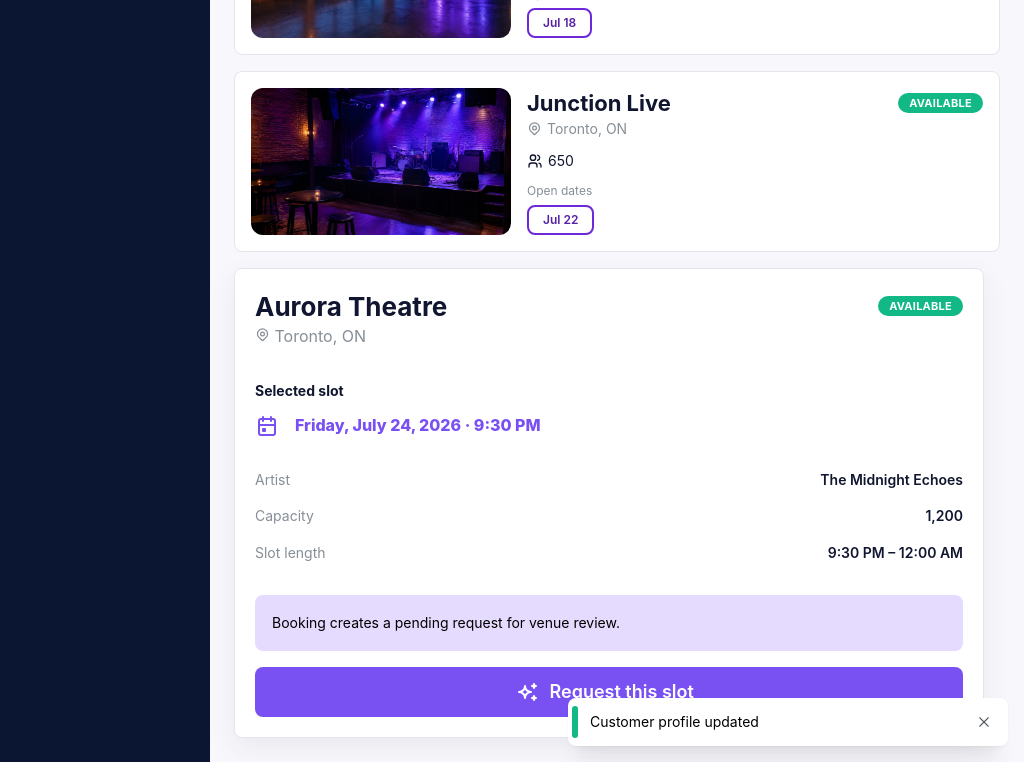
application route smoke coverage › renders Artist venue booking and sends a request
(page scrolled)
Click the button "Request this slot": (609, 692) left=255, top=666, right=963, bottom=716
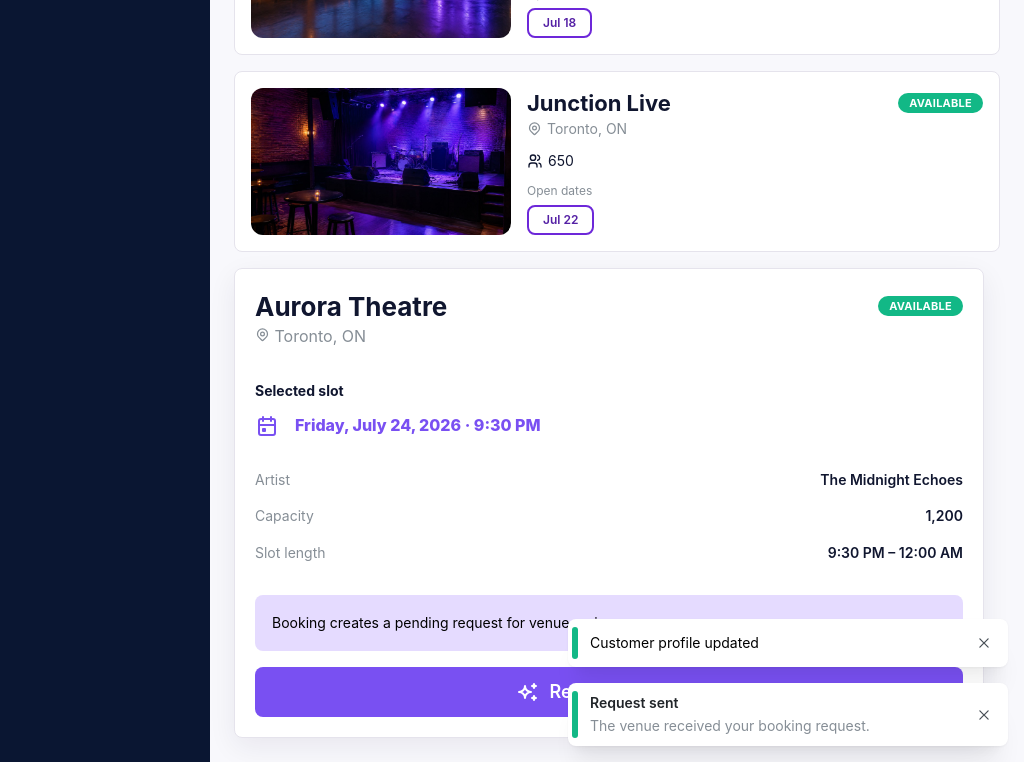
Now the text "The venue received your booking request." is shown, box left=590, top=717, right=870, bottom=734
